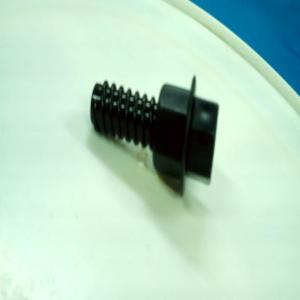parafuso: (88, 71, 223, 199), (90, 73, 221, 197)
